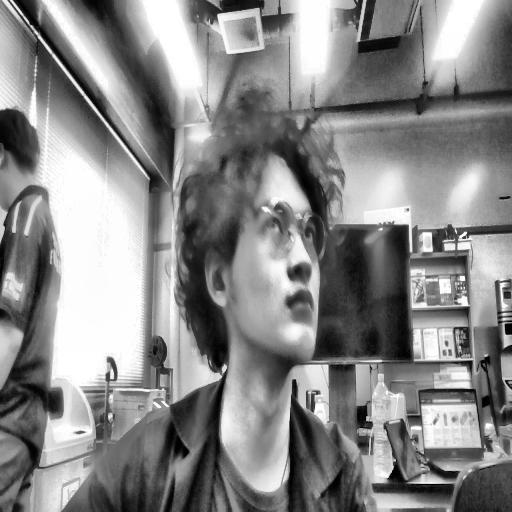Daifuku: (169, 115, 335, 379)
Not Daifuku: (0, 99, 41, 213)
